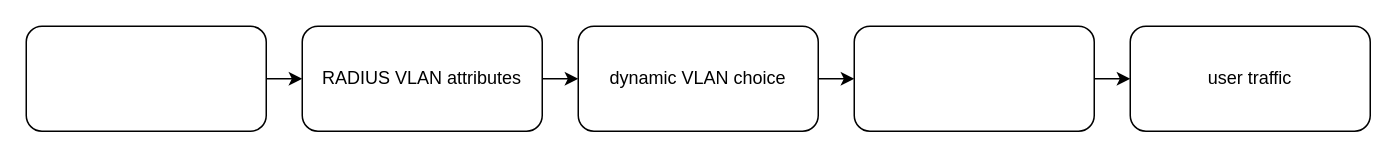
This 1397x158 diagram has some shape labels left out. Here are the shapes that lost their labels. From the top down, the centre of each, then its label:
point 145,78: 802.1X client
point 973,78: DHCP/policy
